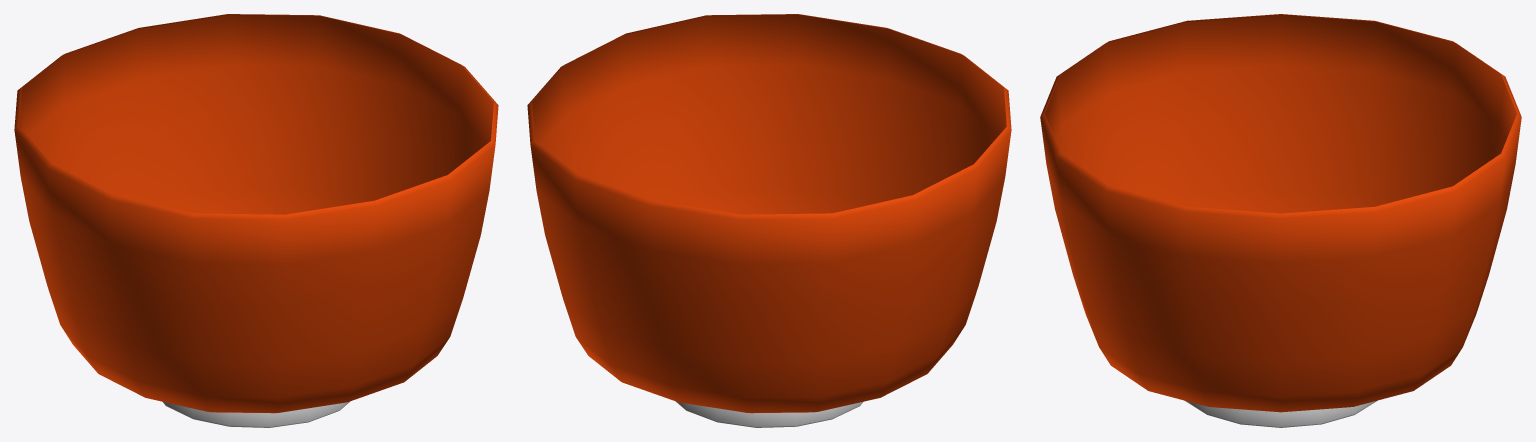
Rendered from bottomShip.glb.
The picture shows the model from 3 angles, left to right: view 1: azimuth 30°, elevation 25°; view 2: azimuth 150°, elevation 25°; view 3: azimuth 270°, elevation 25°; orthographic projection.
Visible parts, largest first — view 1: bottom; view 2: bottom; view 3: bottom.
Part boxes in pixels (x1=…): bottom: x1=14, y1=14, x2=498, y2=427; bottom: x1=527, y1=14, x2=1011, y2=427; bottom: x1=1040, y1=14, x2=1521, y2=427.
Size of the model in its own units: 2.47 by 1.53 by 2.47.
